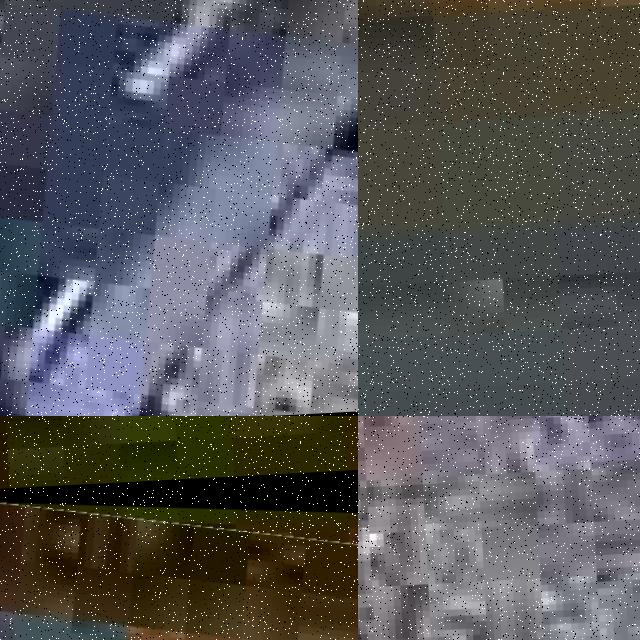drone: (0, 0, 358, 416), (0, 464, 358, 640)
